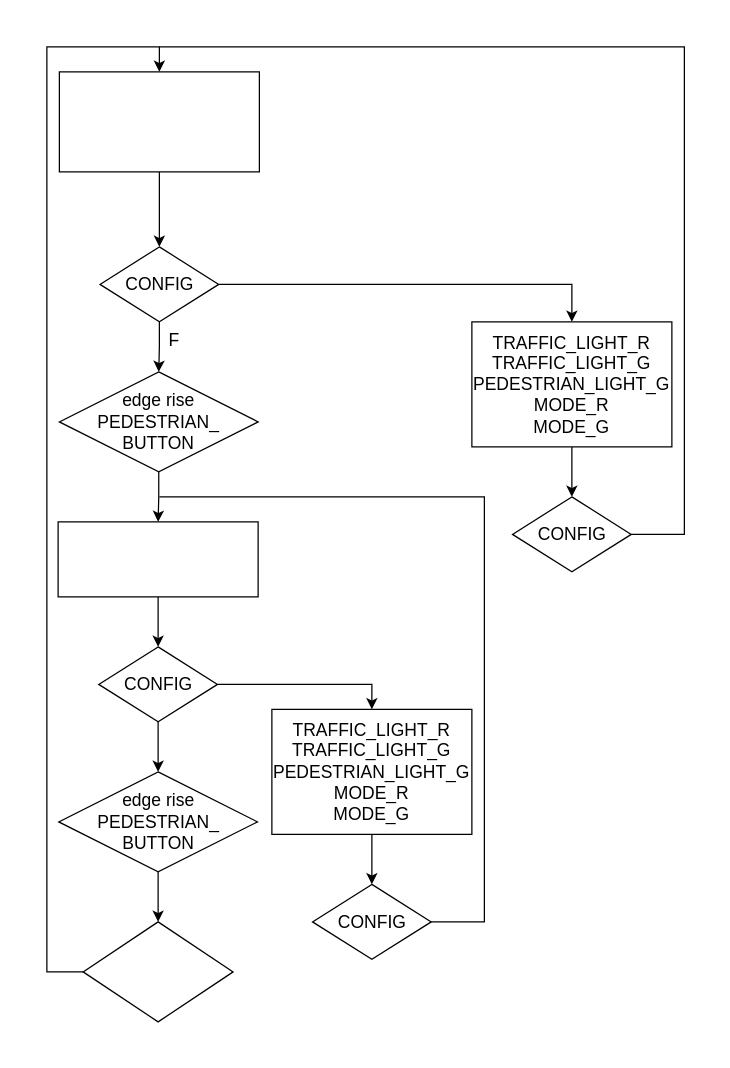
Image size: 730x1068. Some labels were removed from this diagram. The centre of each missing label's shape, as x and y in pixels:
CROSSING_ TIME == 0: point 157,971
TRAFFIC_LIGHT_R PEDESTRIAN_LIGHT_G MODE_G: point 157,559
TRAFFIC_LIGHT_R TRAFFIC_LIGHT_G PEDESTRIAN_LIGHT_R MODE_G: point 158,121
